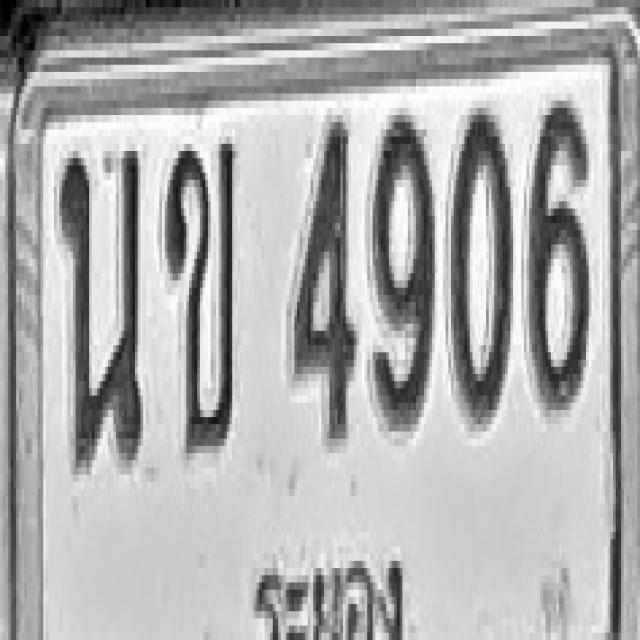0: (449, 108, 512, 424)
11KhorKhai: (164, 137, 236, 453)
34NorNu: (58, 140, 142, 471)
4: (290, 115, 355, 446)
6: (526, 93, 588, 410)
9: (370, 108, 435, 431)
Rayong: (248, 532, 408, 640)
